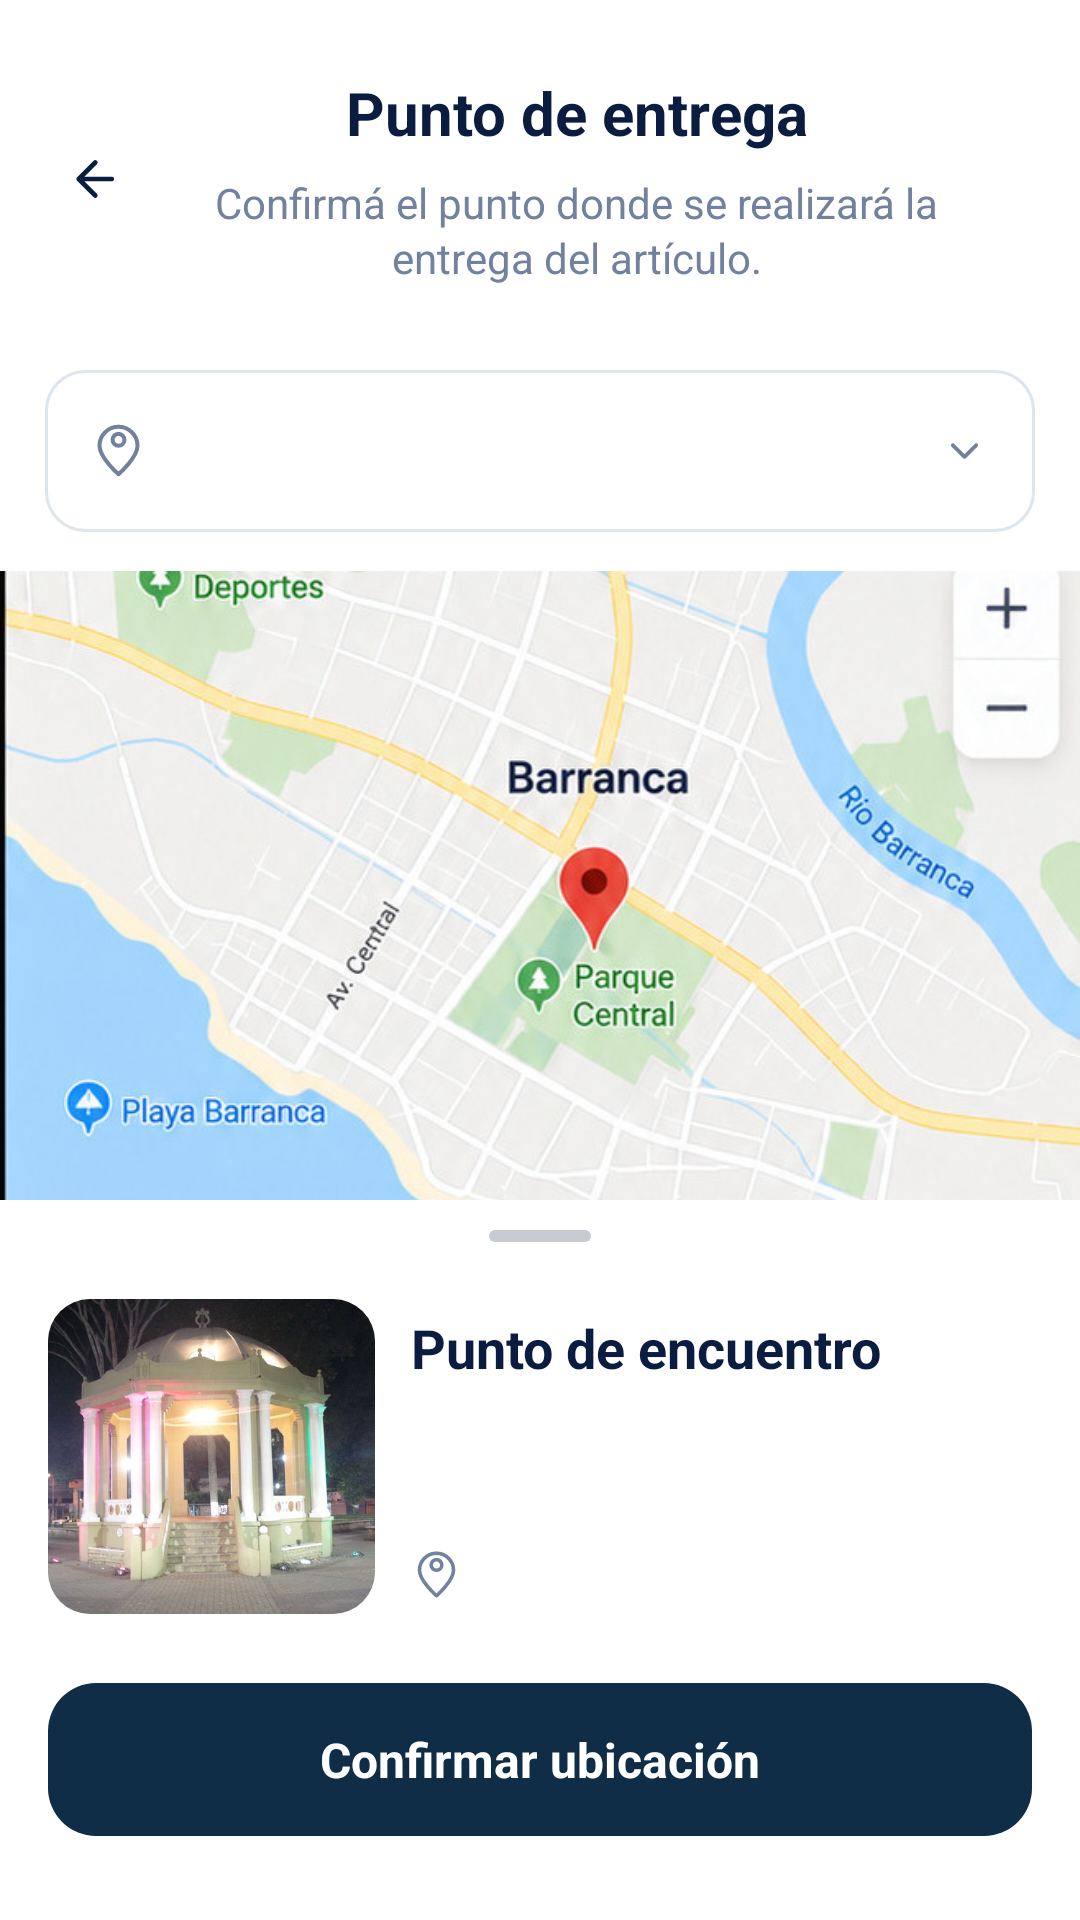

Point at icon controls on the screen. Image size 1080*1920, points as [x,y].
photo gazebo: [211,1456]
rota chevron down: [964,451]
rota pin: [118,450], [436,1574]
Volver: [95,179]
